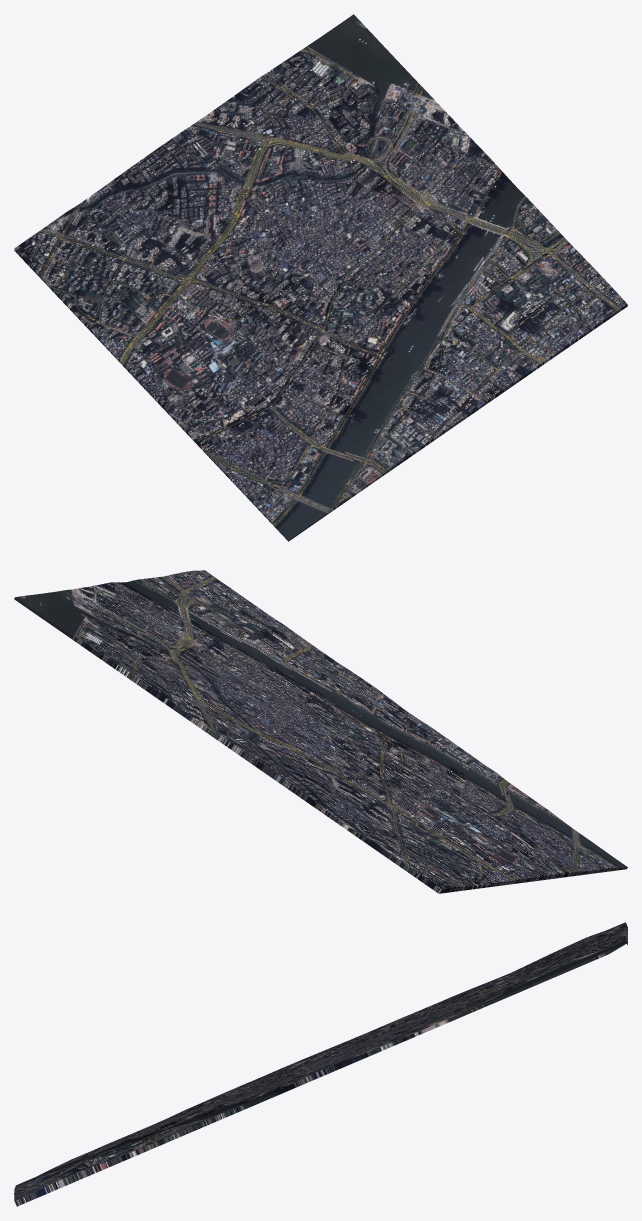
The picture shows the model from 3 angles, top to bottom: view 1: azimuth 30°, elevation 25°; view 2: azimuth 150°, elevation 25°; view 3: azimuth 270°, elevation 25°; orthographic projection. The views are drawn at different scales.
Visible parts, largest first — view 1: 2_3_2; view 2: 2_3_2; view 3: 2_3_2.
Part boxes in pixels (box(x1,y1,x2,y2)): 2_3_2: box(14, 14, 627, 541); 2_3_2: box(14, 570, 627, 893); 2_3_2: box(14, 922, 627, 1206).
Size of the model in its own units: 2453 by 1775 by 2248.
Materials: 1 (1 with a texture image).
